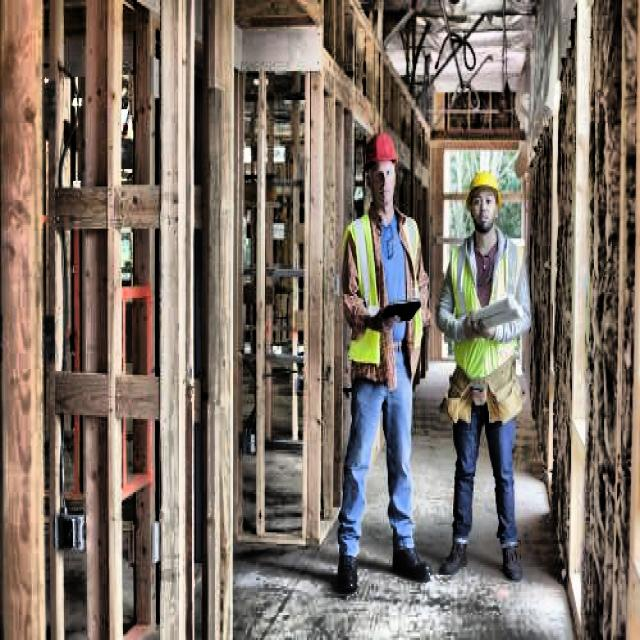helmet: (361, 131, 403, 217), (465, 162, 503, 234)
